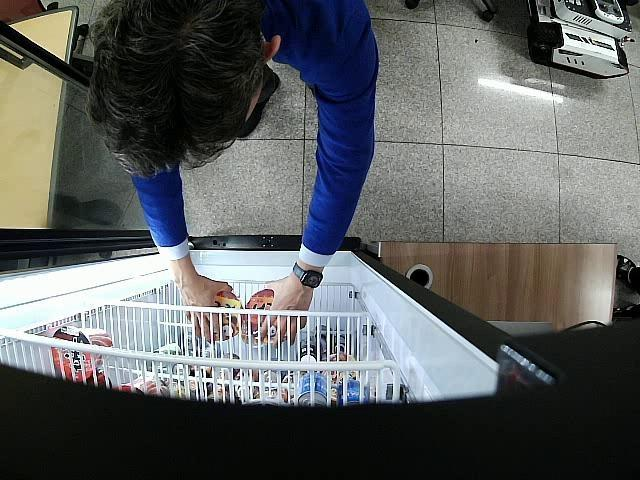05_nuguri_L: (190, 292, 246, 342), (244, 288, 290, 346)
